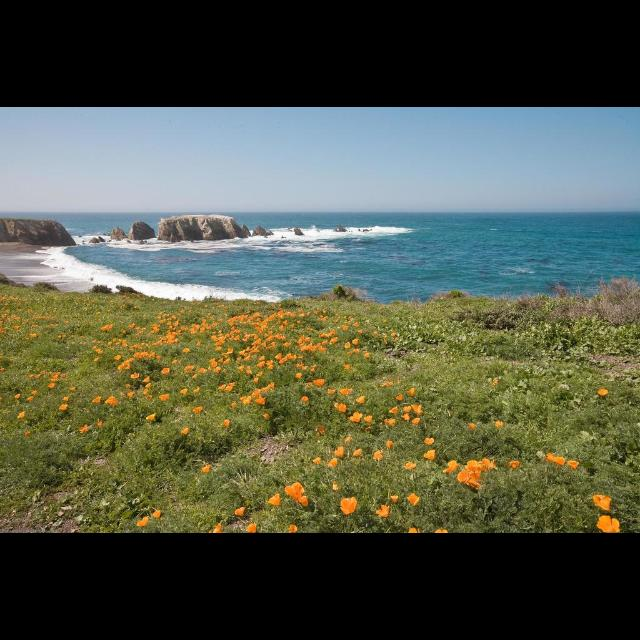Flower: (0, 292, 620, 534), (338, 497, 358, 517)
